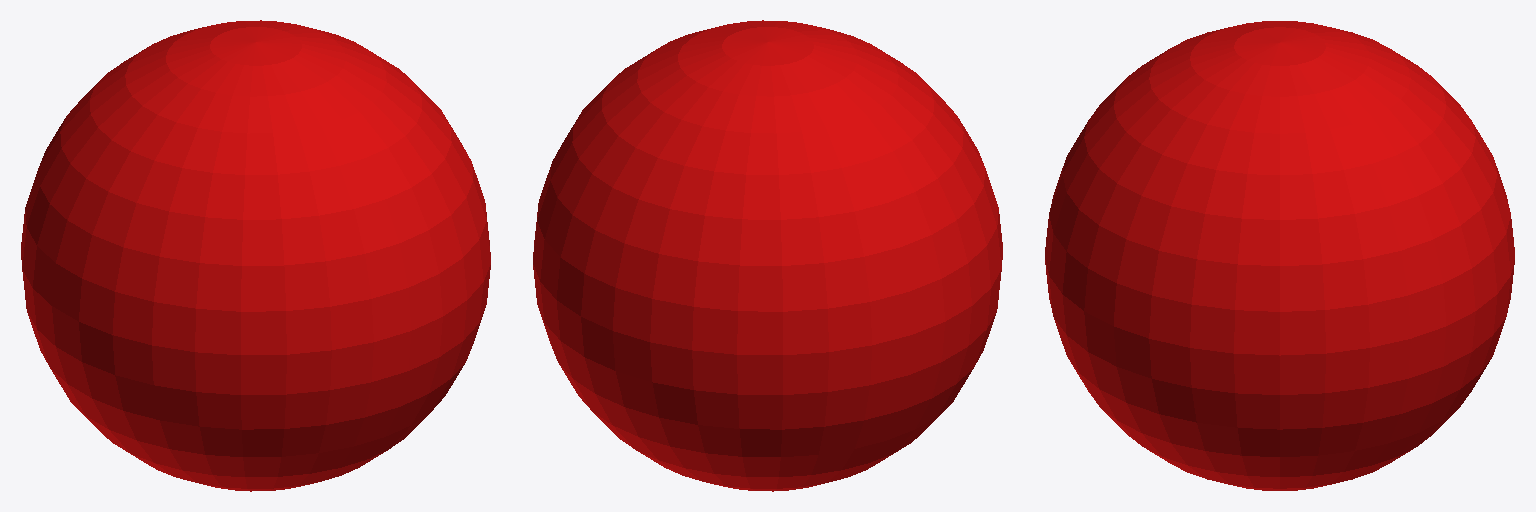
URDF robot description (pokeball):
<!--
  Derived from hpp_practicals' urdf/ur_benchmark/pokeball.urdf (LGPL v2,
  Florent Lamiraux / Guilhem Saurel, LAAS-CNRS) — geometry unchanged except
  for the <visual>, which is a plain <sphere> primitive here instead of the
  pokeball.dae mesh (matching the <collision> geometry, which was already a
  sphere).

  Why: pyhpp_viser's Viewer._update_geometry_frames() computes each
  geometry's rendered position as
    M.translation * entry.geometry_object.meshScale
  — i.e. it multiplies the geometry's WORLD TRANSLATION by its mesh's
  <mesh scale="..."> factor, which is only supposed to scale the mesh's
  local vertices. pokeball.dae needs scale="0.025 0.025 0.025" (the mesh
  asset is modeled ~1m across); every other geometry in this scene has
  unit scale, so this bug only bites the ball — it renders squashed to
  within ~2.5cm of world-frame origin no matter its real pose (confirmed:
  getJointPosition('ball/root_joint') reports the correct FK pose; only
  the *rendered* position is wrong). A primitive has no meshScale to
  trigger this, so it renders correctly; the tradeoff is losing the
  pokeball look for a plain sphere. See script/twin/README.md.
-->
<robot name="pokeball">
  <link name="base_link">
    <inertial>
      <origin xyz="0.0 0.0 0.0" rpy="0 0 0" />
      <mass value="0.6"/>
      <inertia ixx="0.001" ixy="0.0" ixz="0.0"
	       iyy="0.001" iyz="0.0"
	       izz="0.001" />
    </inertial>
    <visual>
      <origin xyz="0 0 0" rpy="0 0 0" />
      <geometry>
        <sphere radius="0.025"/>
      </geometry>
      <material name="pokeball_red">
        <color rgba="0.85 0.1 0.1 1.0"/>
      </material>
    </visual>
    <collision>
      <origin xyz="0 0 0" rpy="0 0 0" />
      <geometry>
	<sphere radius="0.025"/>
      </geometry>
    </collision>
  </link>
</robot>

--- Render facts (derived) ---
3 views of the same robot in one strip: view 1: azimuth 30°, elevation 25°; view 2: azimuth 150°, elevation 25°; view 3: azimuth 270°, elevation 25° (orthographic).
Robot: pokeball — 1 links, 0 joints (none); root link base_link; default pose: all joints at 0.
Links seen in each view (by area): view 1: base_link; view 2: base_link; view 3: base_link.
Link boxes in pixels (<box>): base_link: <box>21,20,490,491</box>; base_link: <box>533,20,1002,491</box>; base_link: <box>1045,21,1514,490</box>.
Bounding box of the posed robot: 0.05 × 0.05 × 0.05 m (x, y, z).
Geometry: primitives only (box / cylinder / sphere), no mesh files.
